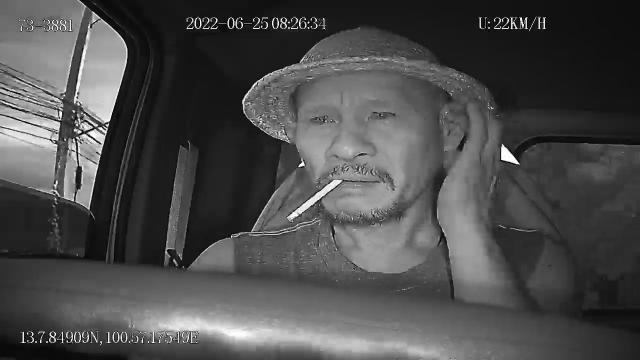SafeDriving: (361, 100, 404, 127), (303, 105, 343, 130)
Smoking: (285, 174, 343, 229)
